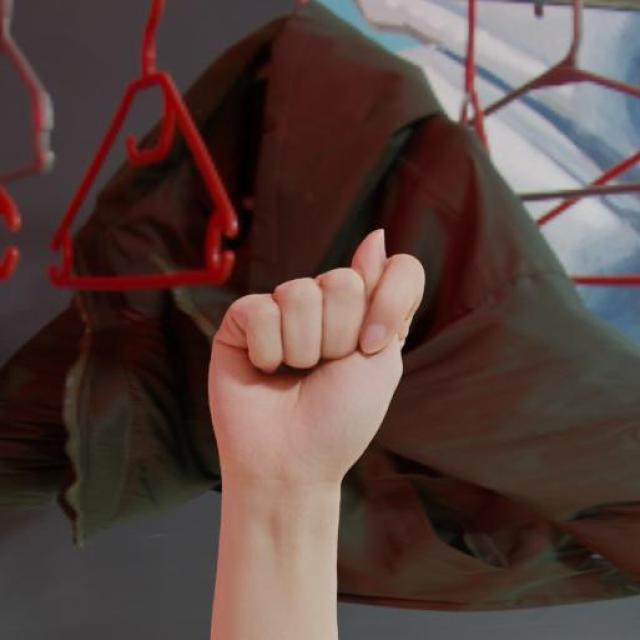T: (196, 225, 435, 481)
